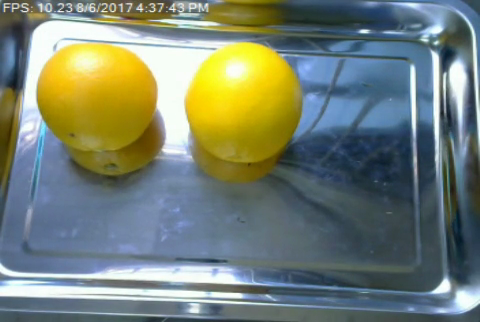Orange: (184, 40, 301, 164), (36, 44, 160, 150)
